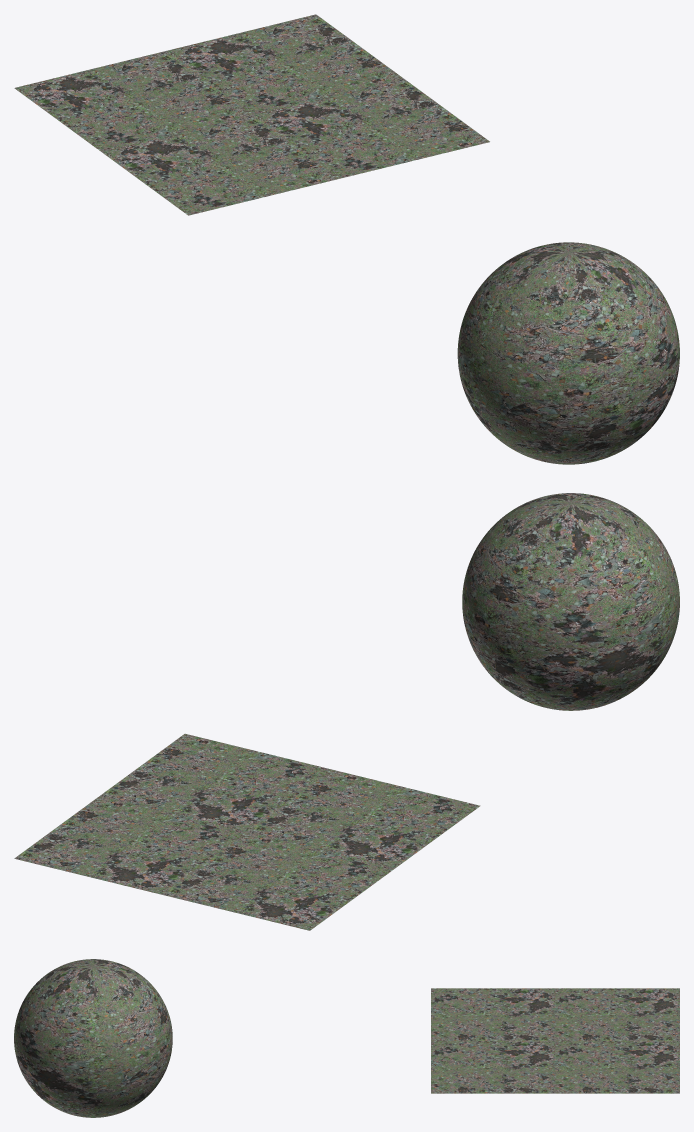
File: pack 02 teaser.FBX
3 views of the same model, one above another, from view 1: azimuth 30°, elevation 25°; view 2: azimuth 150°, elevation 25°; view 3: azimuth 270°, elevation 25° (orthographic). The views are drawn at different scales.
Visible parts, largest first — view 1: pack 02 teaser plane, pack 02 teaser sphere; view 2: pack 02 teaser plane, pack 02 teaser sphere; view 3: pack 02 teaser plane, pack 02 teaser sphere.
Part boxes in pixels (left/top/right/bottom): pack 02 teaser plane: left=14, top=14, right=489, bottom=215; pack 02 teaser sphere: left=457, top=242, right=679, bottom=464; pack 02 teaser plane: left=14, top=733, right=480, bottom=930; pack 02 teaser sphere: left=462, top=493, right=679, bottom=710; pack 02 teaser plane: left=431, top=988, right=679, bottom=1093; pack 02 teaser sphere: left=14, top=959, right=172, bottom=1117.
Bounding box in the file's own units: 200 × 127 × 535.
1 material, 1 textured.
